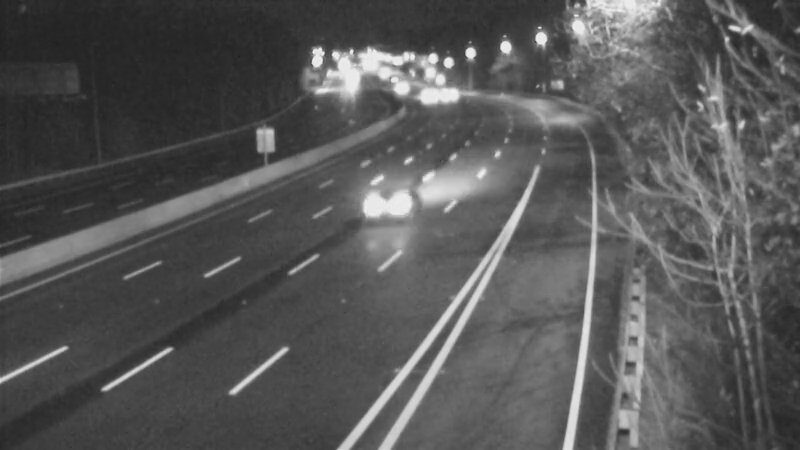vehicle: (341, 170, 421, 250), (422, 67, 472, 117), (372, 61, 422, 111), (400, 72, 450, 122)
